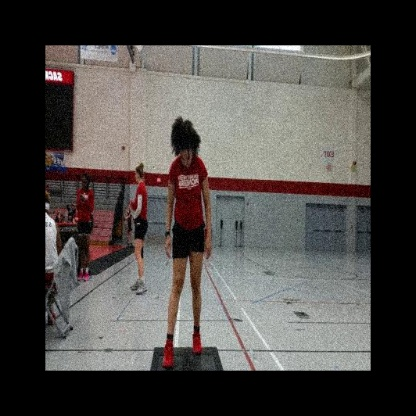lateral_flexion_left: (160, 153, 213, 369)
stance_width_normal: (160, 117, 213, 371)
